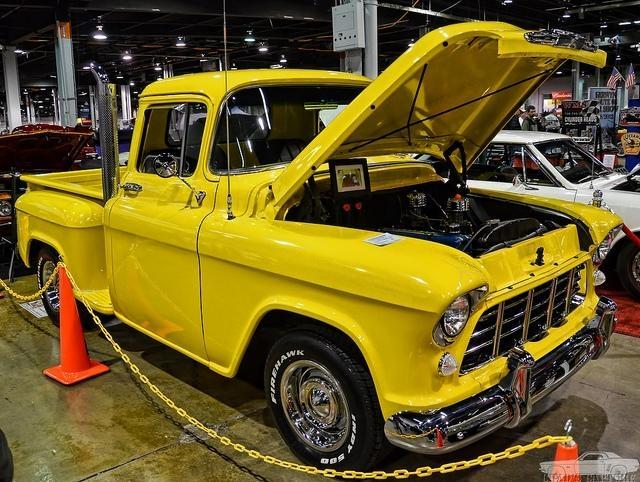car: (10, 15, 618, 475), (467, 131, 639, 302), (0, 124, 94, 240)
truck: (18, 21, 626, 474)
